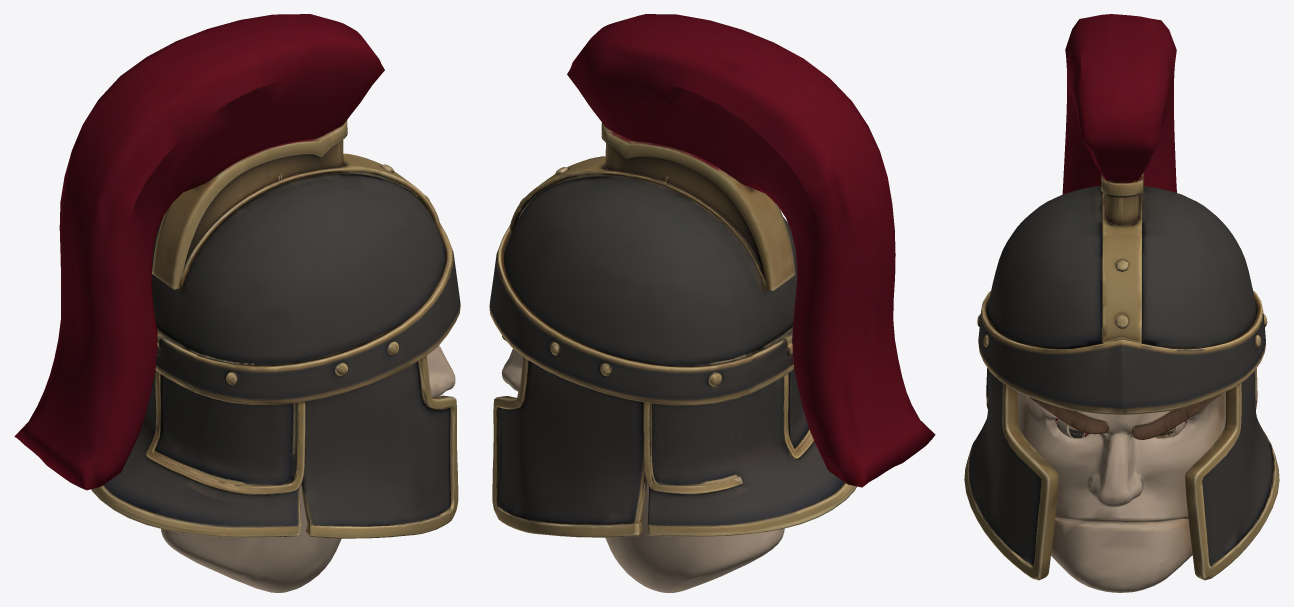
3 views of the same model, side by side, from view 1: azimuth 30°, elevation 25°; view 2: azimuth 150°, elevation 25°; view 3: azimuth 270°, elevation 25° (orthographic). The views are drawn at different scales.
Visible parts, largest first — view 1: tripo_node_d244490c; view 2: tripo_node_d244490c; view 3: tripo_node_d244490c.
Boxes of the visible parts, x1=… form: tripo_node_d244490c: x1=14, y1=14, x2=460, y2=592; tripo_node_d244490c: x1=489, y1=14, x2=935, y2=592; tripo_node_d244490c: x1=964, y1=14, x2=1279, y2=592.
Size of the model in its own units: 0.7573 by 0.9995 by 0.5396.
1 material, 1 textured.
